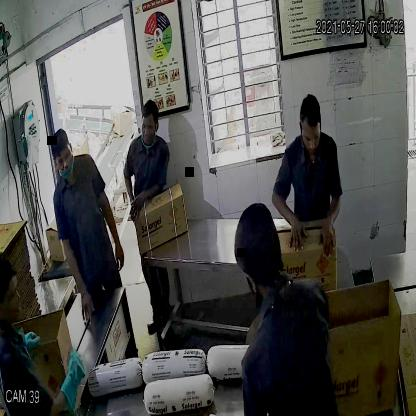no_goggles: (298, 122, 324, 147), (52, 147, 74, 168)
